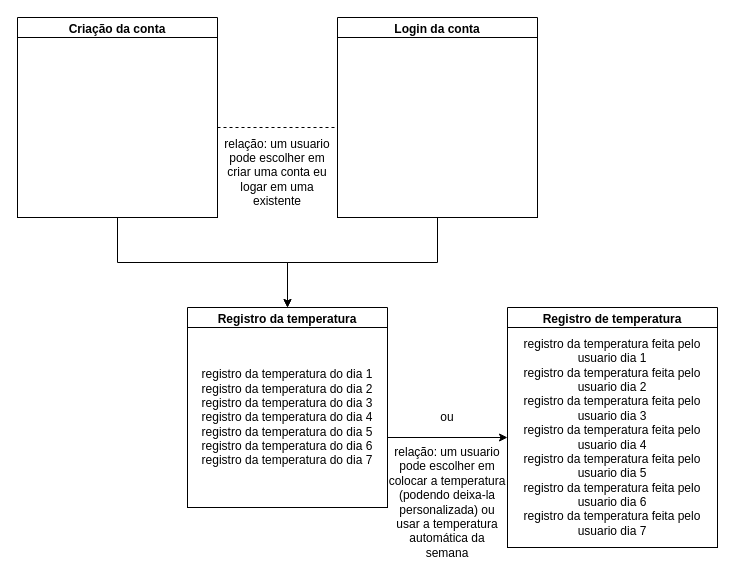
Image size: 735x580. Some labels were removed from this diagram. Each missing label, with the centre of its shape:
"email senha" belongs at pixel 437 127.
"Nome completo email senha numero de telefone endereço" belongs at pixel 117 127.
